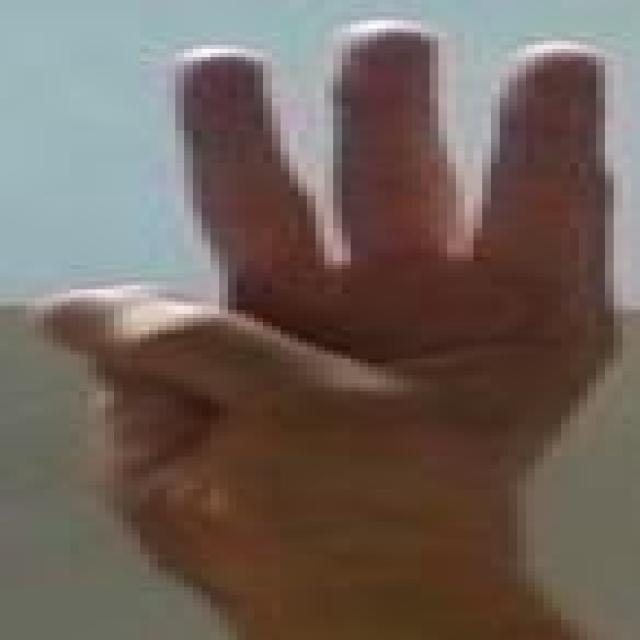W: (15, 12, 633, 620)
